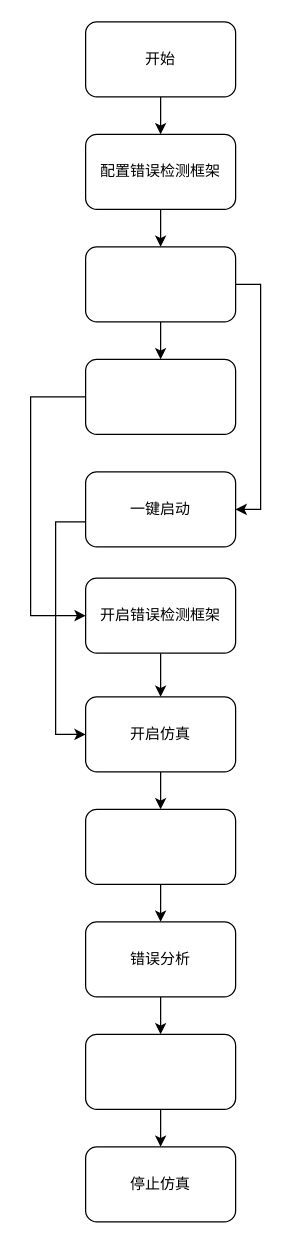
This 293x1244 diagram has some shape labels left out. Each missing label, with the centre of its shape:
仿真进行: the point at 160,846
是否软件仿真: the point at 160,284
输出报告: the point at 160,1071
配置启动参数: the point at 160,396
